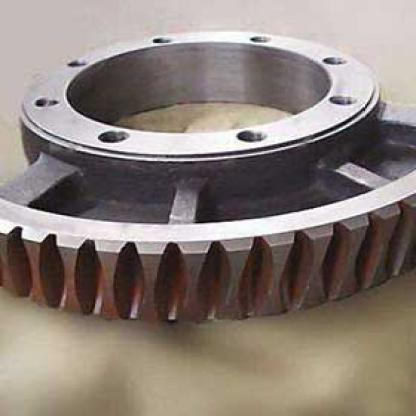FOD: (0, 25, 415, 340)
